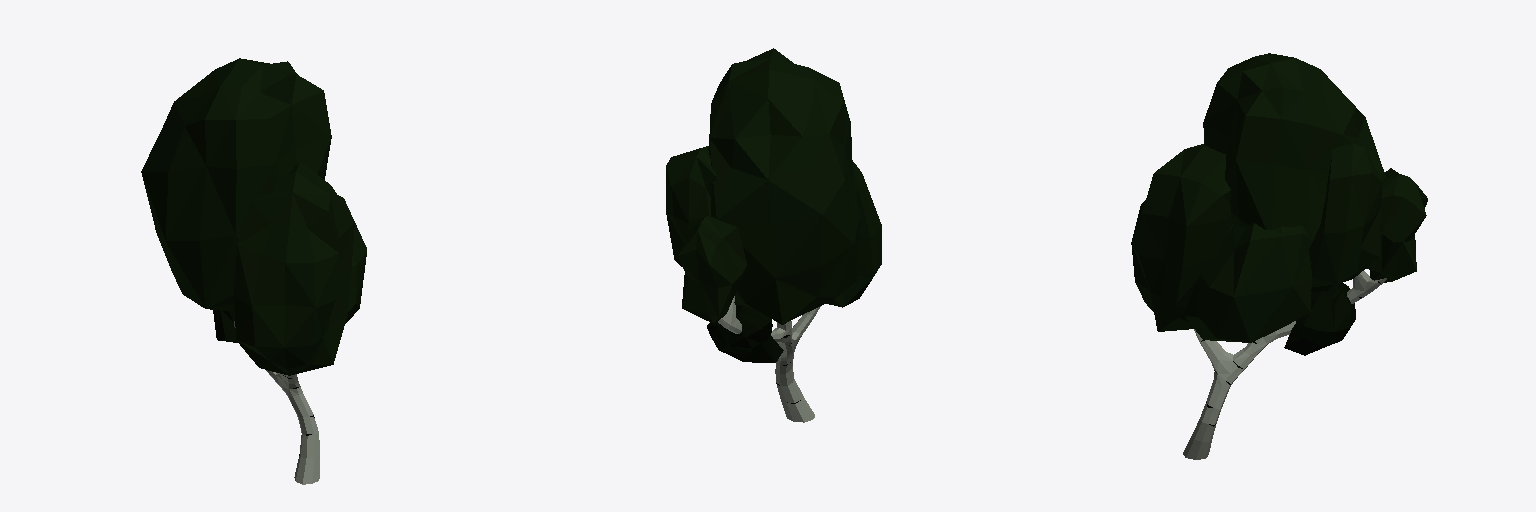
Rendered from BirchTree_1.obj.
The picture shows the model from 3 angles: view 1: azimuth 30°, elevation 25°; view 2: azimuth 150°, elevation 25°; view 3: azimuth 270°, elevation 25°; orthographic projection.
Visible parts, largest first — view 1: BirchTree_1_Cube; view 2: BirchTree_1_Cube; view 3: BirchTree_1_Cube.
Boxes of the visible parts, <box> form: BirchTree_1_Cube: <box>141,58,366,484</box>; BirchTree_1_Cube: <box>666,48,881,422</box>; BirchTree_1_Cube: <box>1131,53,1427,459</box>.
Bounding box in the file's own units: 1.7 × 3.57 × 2.48.